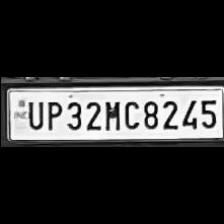2: (83, 97, 101, 130), (160, 98, 178, 130)
3: (62, 97, 82, 130)
4: (178, 96, 198, 128)
5: (196, 96, 218, 128)
8: (140, 98, 158, 130)
C: (121, 96, 139, 130)
M: (100, 97, 119, 130)
P: (42, 98, 60, 130)
U: (23, 97, 43, 128)
